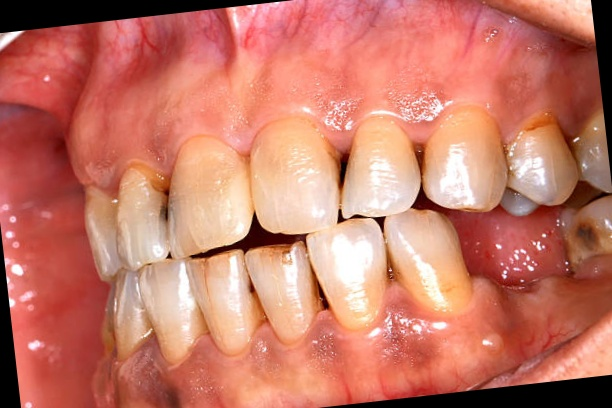Gingivitis: (116, 349, 207, 408), (114, 19, 192, 79), (385, 308, 439, 369)
